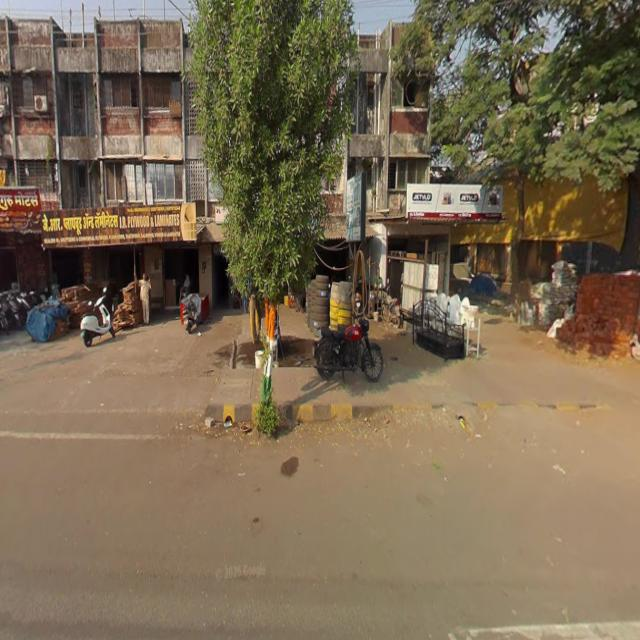illegalparking: (307, 314, 388, 392)
